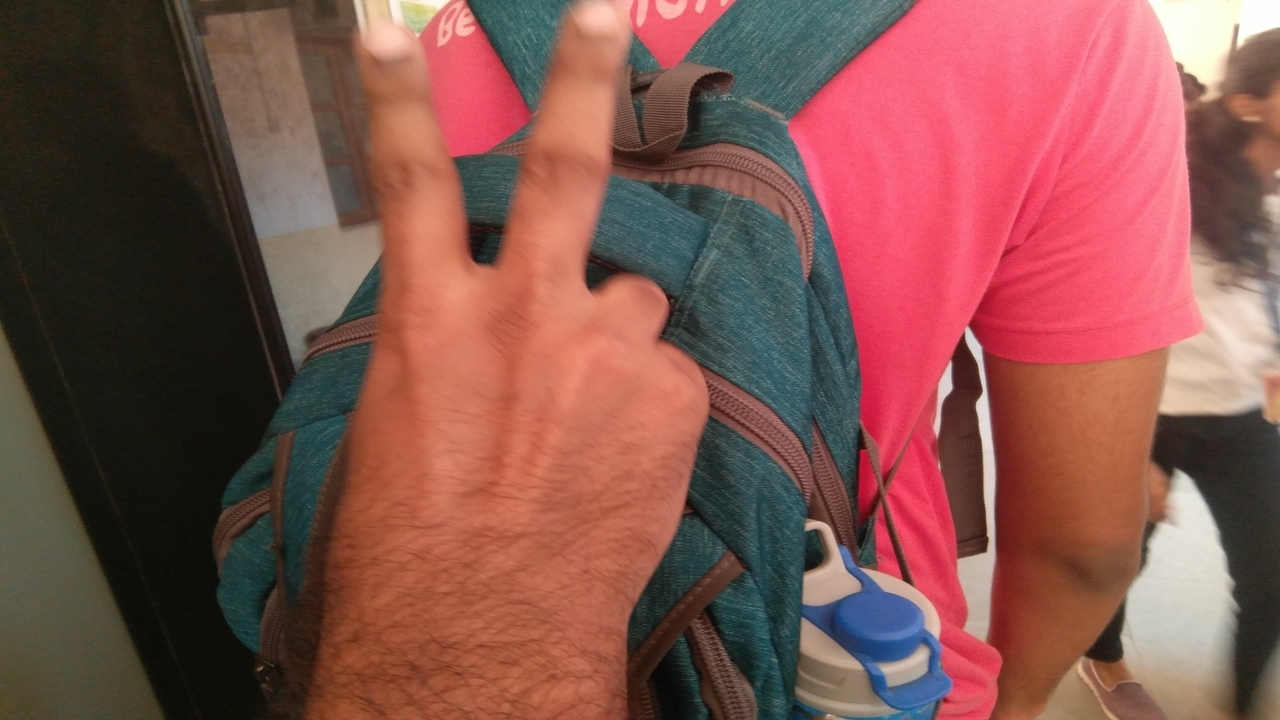fingertip: (343, 16, 421, 72), (570, 4, 617, 48)
